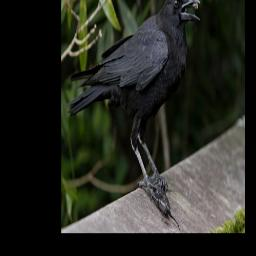Crow: (67, 0, 201, 202)
